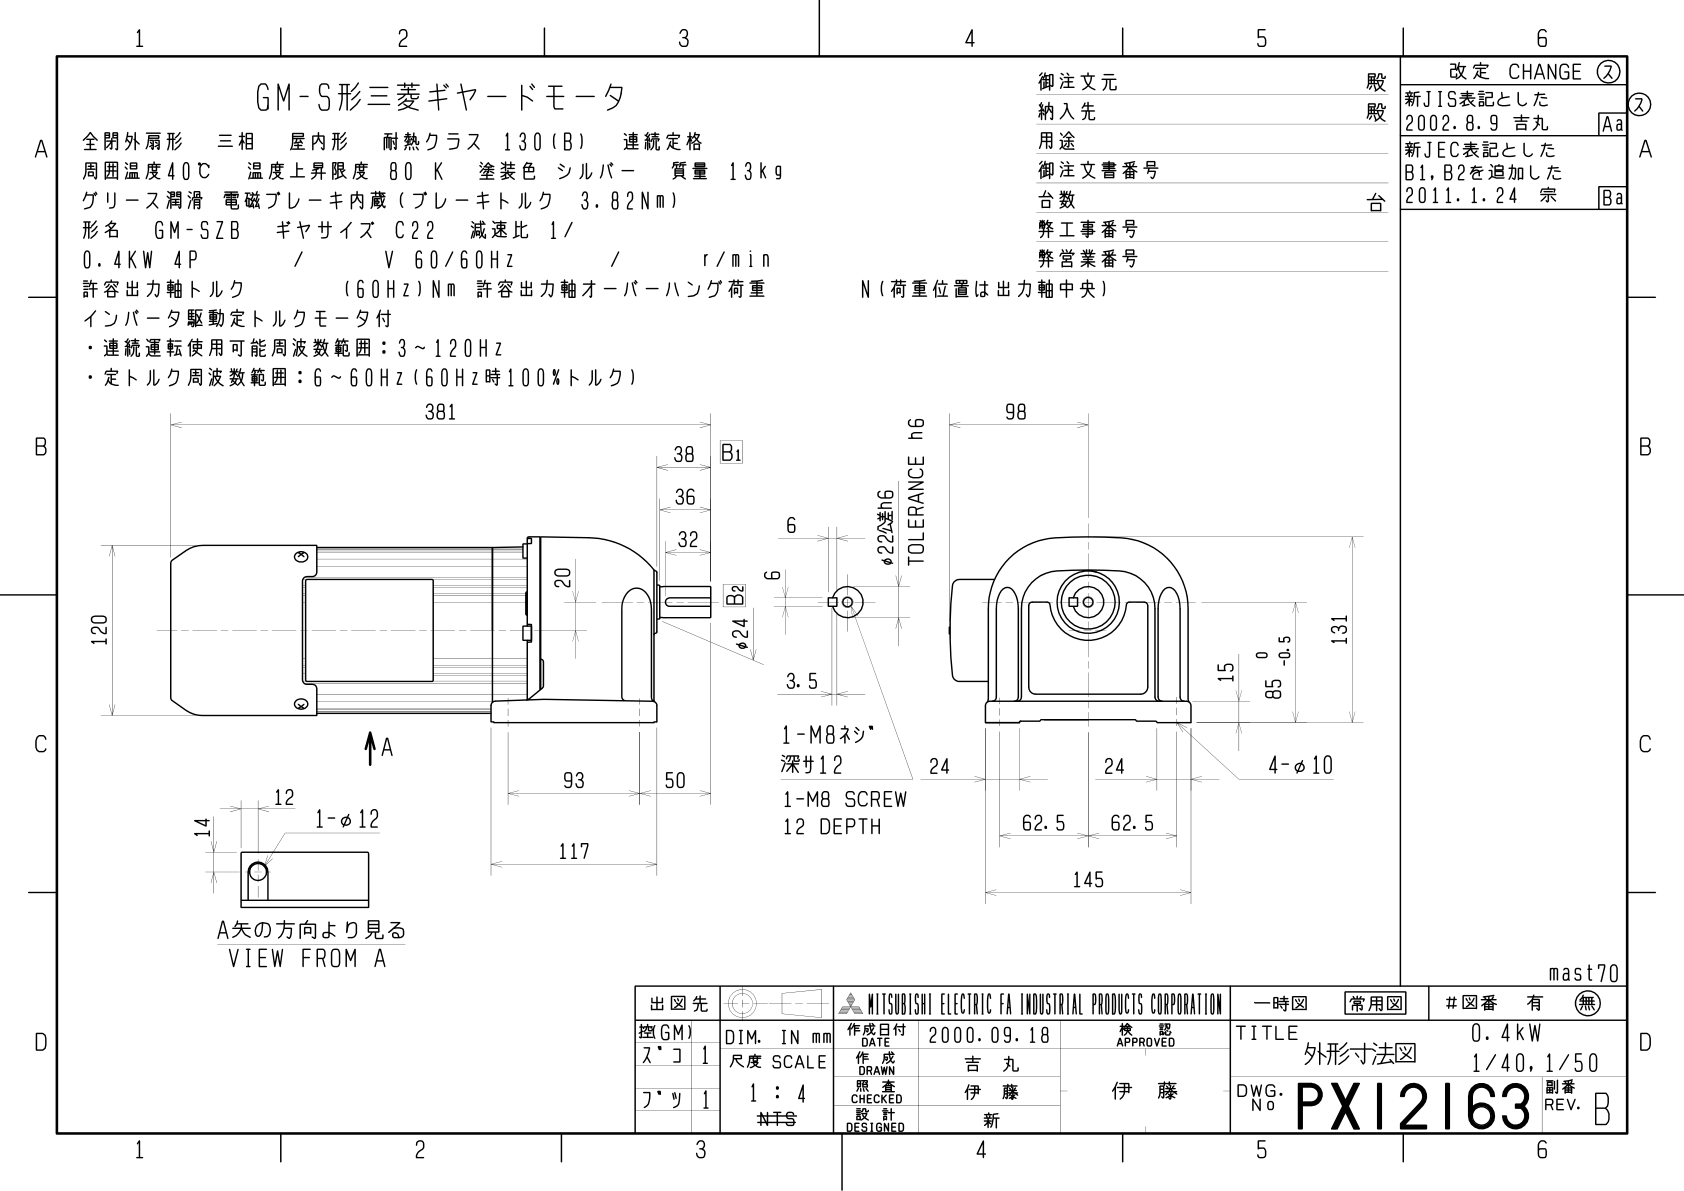GM_S_インバタ屋内＿三相_脚: (6, 3, 1684, 1191)
